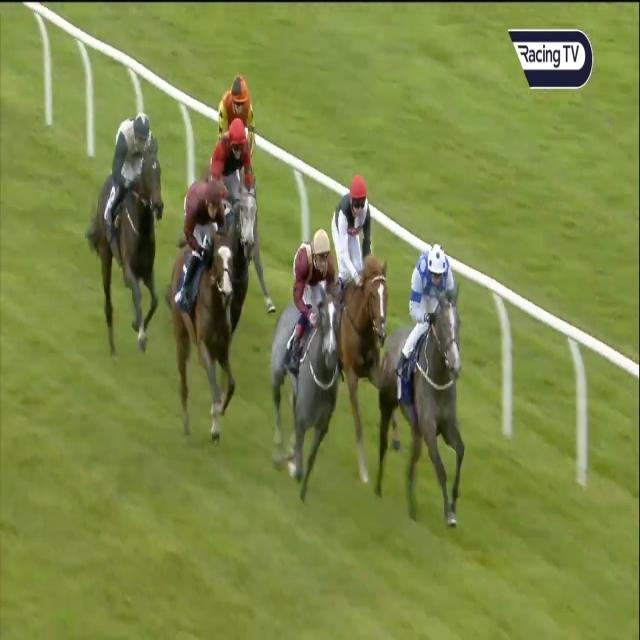horses-racing: (388, 236, 480, 542), (322, 177, 392, 498), (273, 236, 350, 491), (168, 184, 242, 445), (90, 113, 166, 350), (192, 131, 276, 259), (211, 78, 266, 154)
